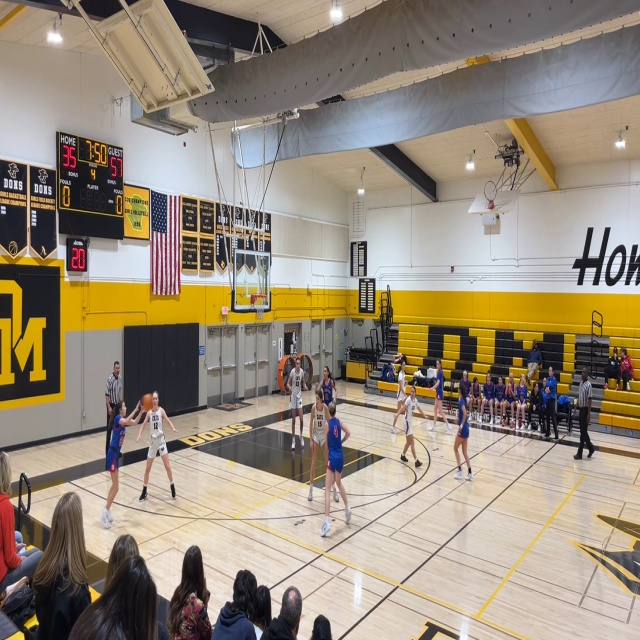Basketball: (141, 393, 153, 411)
